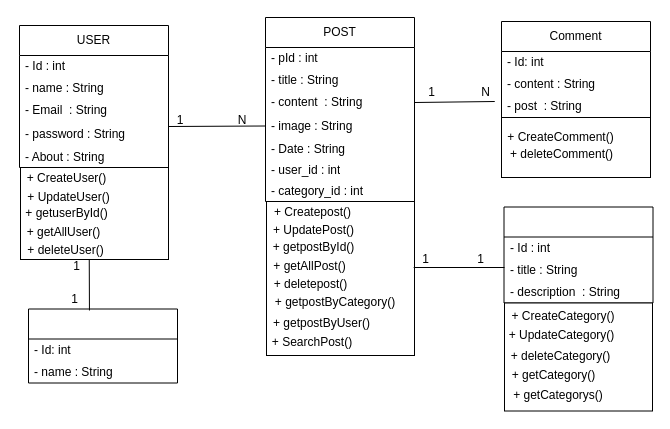
Image size: 670x429. Some labels were removed from this diagram. The shapes that lost their labels are listed below. From the top down, each one's box as (x1, y1, x2, y2) in pixels, then its label:
(503, 206, 653, 303): Category
(28, 308, 178, 383): Role
